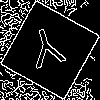Y: (25, 25, 70, 78)
